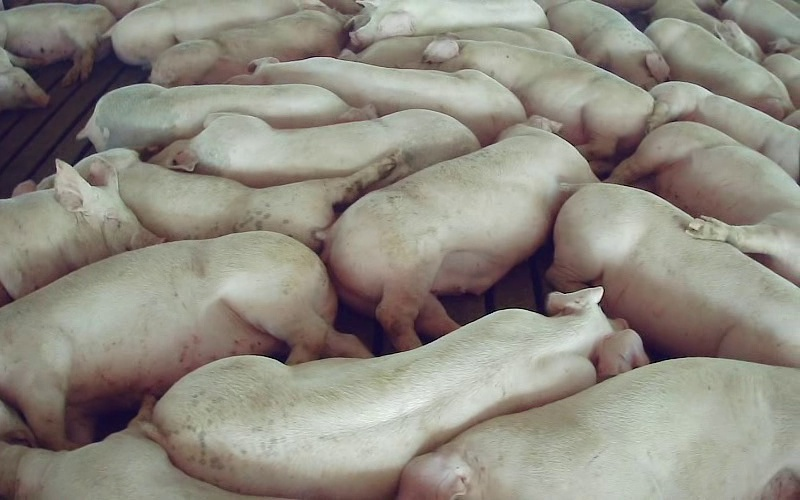pig: (146, 288, 647, 497), (0, 232, 368, 449), (323, 115, 596, 350), (398, 358, 799, 499), (547, 184, 799, 366), (76, 148, 396, 249), (423, 37, 653, 175), (609, 122, 799, 284), (0, 397, 262, 499), (228, 57, 525, 145), (150, 110, 479, 186), (0, 159, 159, 305), (77, 84, 372, 152), (150, 9, 346, 86), (106, 0, 330, 67), (645, 18, 793, 119), (648, 81, 799, 179), (538, 0, 669, 89), (350, 0, 548, 50), (646, 0, 763, 62)
